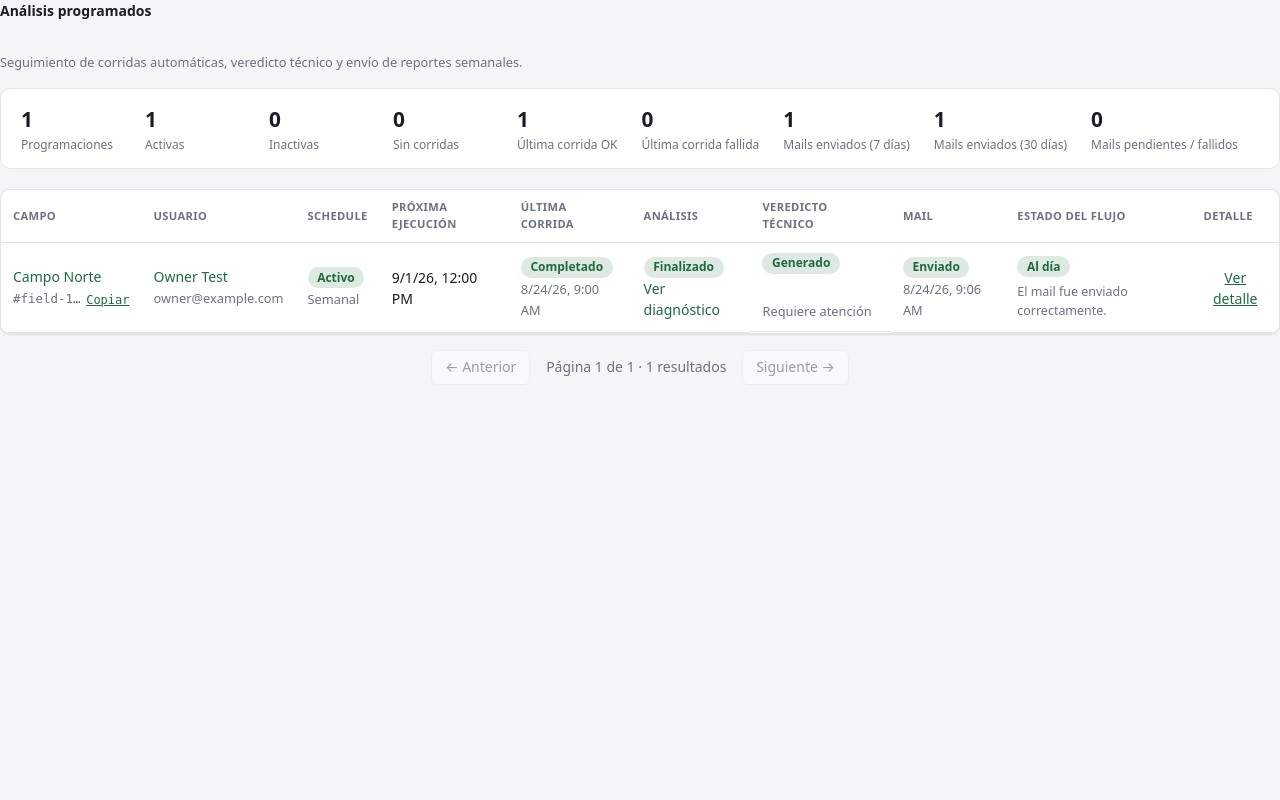
ScheduledAnalysisComponent (PR 13B) › renderiza "Diagnóstico semanal" cuando weeklyTechnicalVerdict trae generated
This screenshot has width=1280, height=800.
Click the button with class "detail-toggle" at (1235, 288), box [1204, 266, 1267, 308]
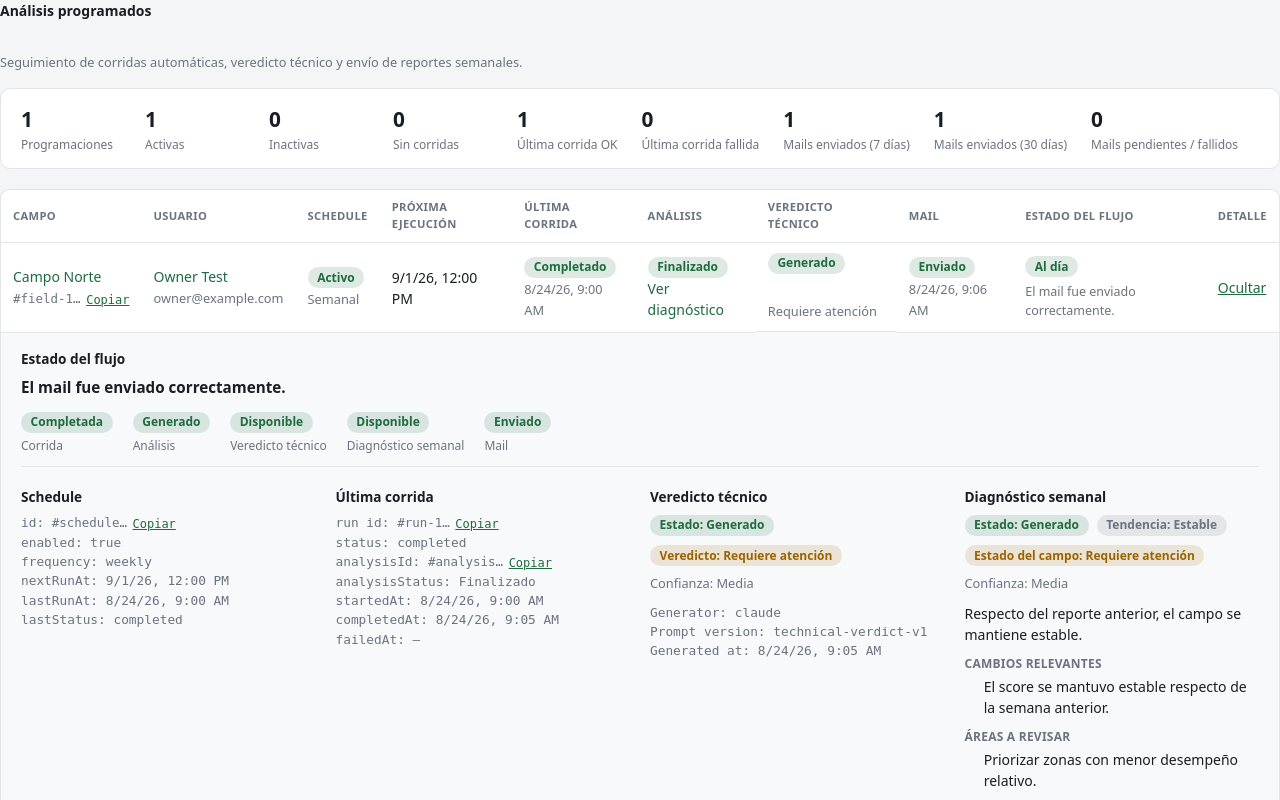
Expected: the text "Diagnóstico semanal" is shown, [347, 438, 464, 454]
